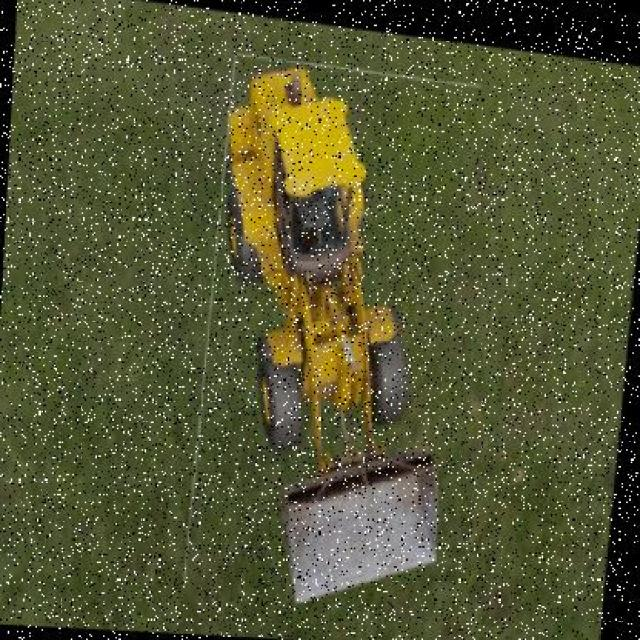buldozerpayloadergrader: (203, 57, 463, 614)
